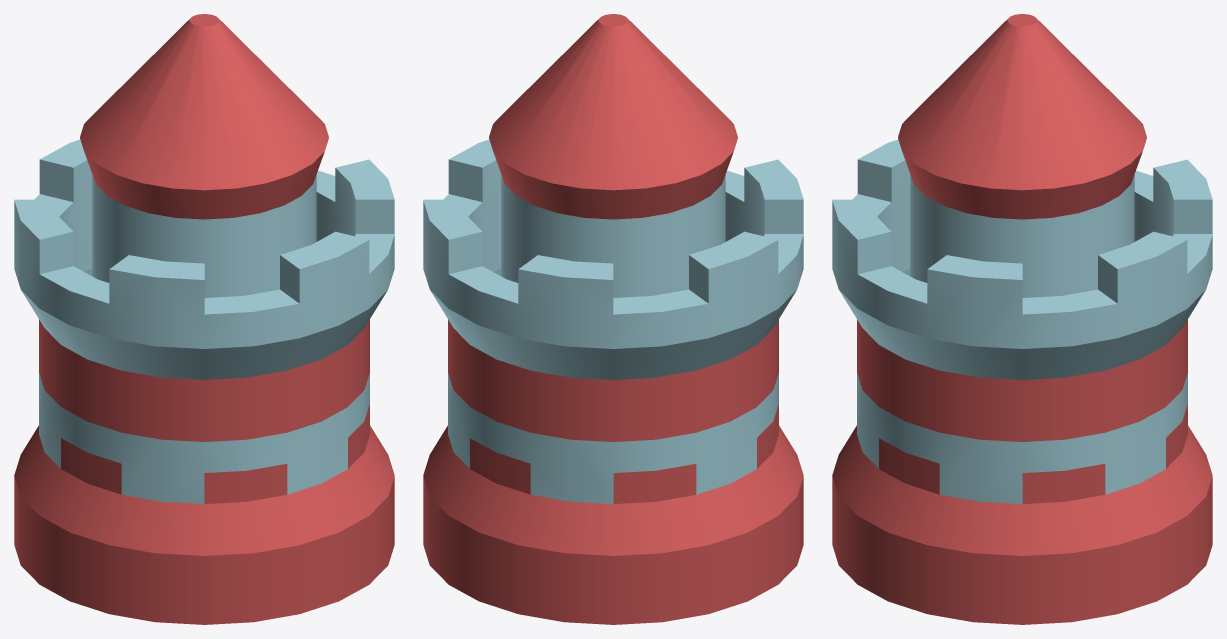
The model's file is towerRound_sampleF.dae.
3 renders of one model, left to right at view 1: azimuth 30°, elevation 25°; view 2: azimuth 150°, elevation 25°; view 3: azimuth 270°, elevation 25°, orthographic.
Visible parts, largest first — view 1: towerRound_sampleF; view 2: towerRound_sampleF; view 3: towerRound_sampleF.
Boxes of the visible parts, left/top/right/bottom form: towerRound_sampleF: left=14, top=14, right=394, bottom=624; towerRound_sampleF: left=423, top=14, right=803, bottom=624; towerRound_sampleF: left=832, top=14, right=1212, bottom=624.
Bounding box in the file's own units: 1 × 1.52 × 1.
